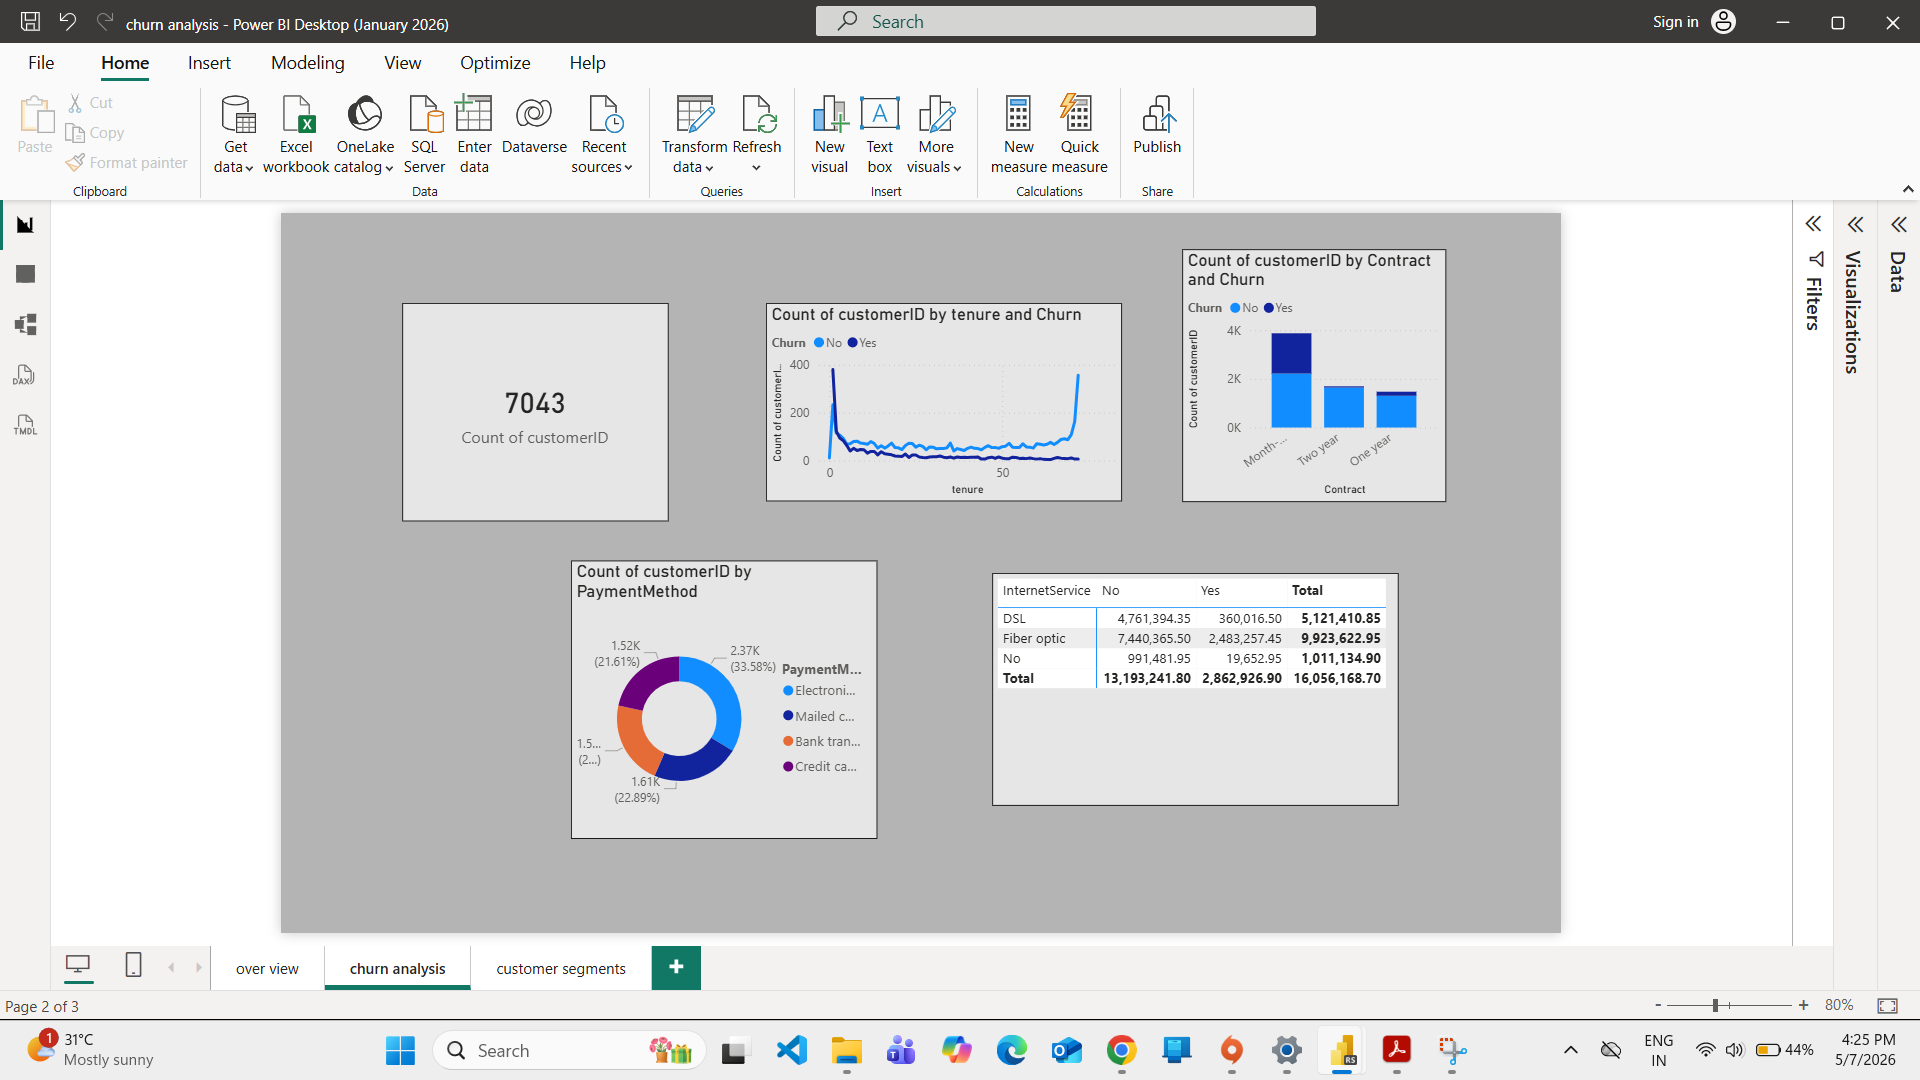

The page's visual inventory and layout, read from the dashboard file:
{"tool":"powerbi","page":{"name":"churn analysis","canvas":[1280,720],"ordinal":1},"visuals":[{"type":"card","fields":{"Values":["Count(clean_churn_data.customerID)"]},"box":[16.5,90.6,218.2,218.2],"z":0},{"type":"lineChart","fields":{"Category":["clean_churn_data.tenure"],"Y":["Count(clean_churn_data.customerID)"],"Series":["clean_churn_data.Churn"]},"box":[375.7,137.1,298.6,145.7],"z":1},{"type":"columnChart","fields":{"Category":["clean_churn_data.Contract"],"Y":["Count(clean_churn_data.customerID)"],"Series":["clean_churn_data.Churn"]},"box":[817.1,55.7,264.3,252.9],"z":2},{"type":"donutChart","fields":{"Category":["clean_churn_data.PaymentMethod"],"Y":["Count(clean_churn_data.customerID)"]},"box":[17.1,380,262.9,242.9],"z":3},{"type":"pivotTable","fields":{"Rows":["clean_churn_data.InternetService"],"Columns":["clean_churn_data.Churn"],"Values":["Sum(clean_churn_data.TotalCharges)"]},"box":[388.8,371.2,406.2,232.5],"z":4}]}

Visuals, with their boxes on the page's 1280x720 design canvas (x1, y1, x2, y2). These are canvas units, not pixel positions in the 1920x1080 screenshot, which may show the page scaled, cropped or inside an application window:
card - Count(clean_churn_data.customerID): [x1=16, y1=91, x2=235, y2=309]
lineChart - clean_churn_data.tenure x Count(clean_churn_data.customerID): [x1=376, y1=137, x2=674, y2=283]
columnChart - clean_churn_data.Contract x Count(clean_churn_data.customerID): [x1=817, y1=56, x2=1081, y2=309]
donutChart - clean_churn_data.PaymentMethod x Count(clean_churn_data.customerID): [x1=17, y1=380, x2=280, y2=623]
pivotTable - clean_churn_data.InternetService x clean_churn_data.Churn: [x1=389, y1=371, x2=795, y2=604]
